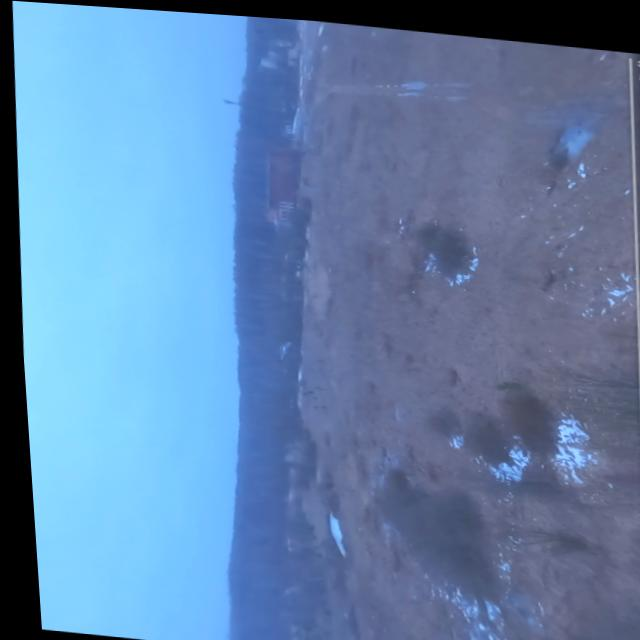planedrone: (264, 336, 301, 365)
